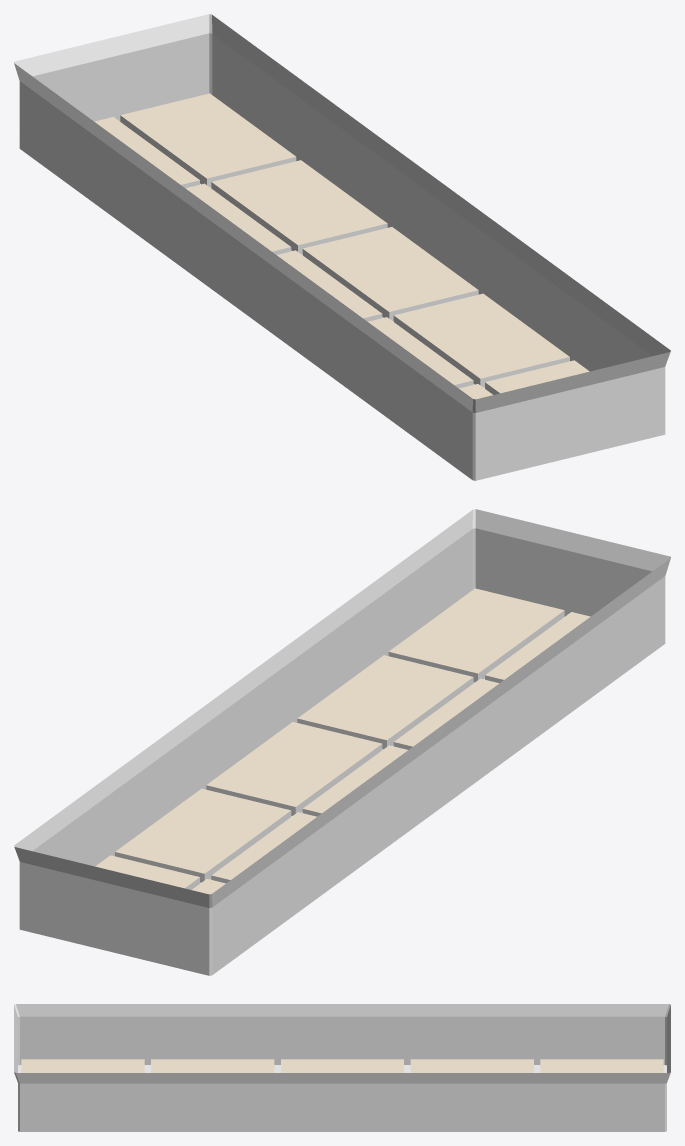
3 views of the same model, one above another, from view 1: azimuth 30°, elevation 25°; view 2: azimuth 150°, elevation 25°; view 3: azimuth 270°, elevation 25° (orthographic). The views are drawn at different scales.
Visible parts, largest first — view 1: Cube.652_26c923c5; view 2: Cube.652_26c923c5; view 3: Cube.652_26c923c5.
Part boxes in pixels (x1=…): Cube.652_26c923c5: x1=14, y1=14, x2=670, y2=480; Cube.652_26c923c5: x1=14, y1=509, x2=670, y2=975; Cube.652_26c923c5: x1=14, y1=1004, x2=670, y2=1131.
Size of the model in its own units: 0.2849 by 0.1158 by 1.15.
